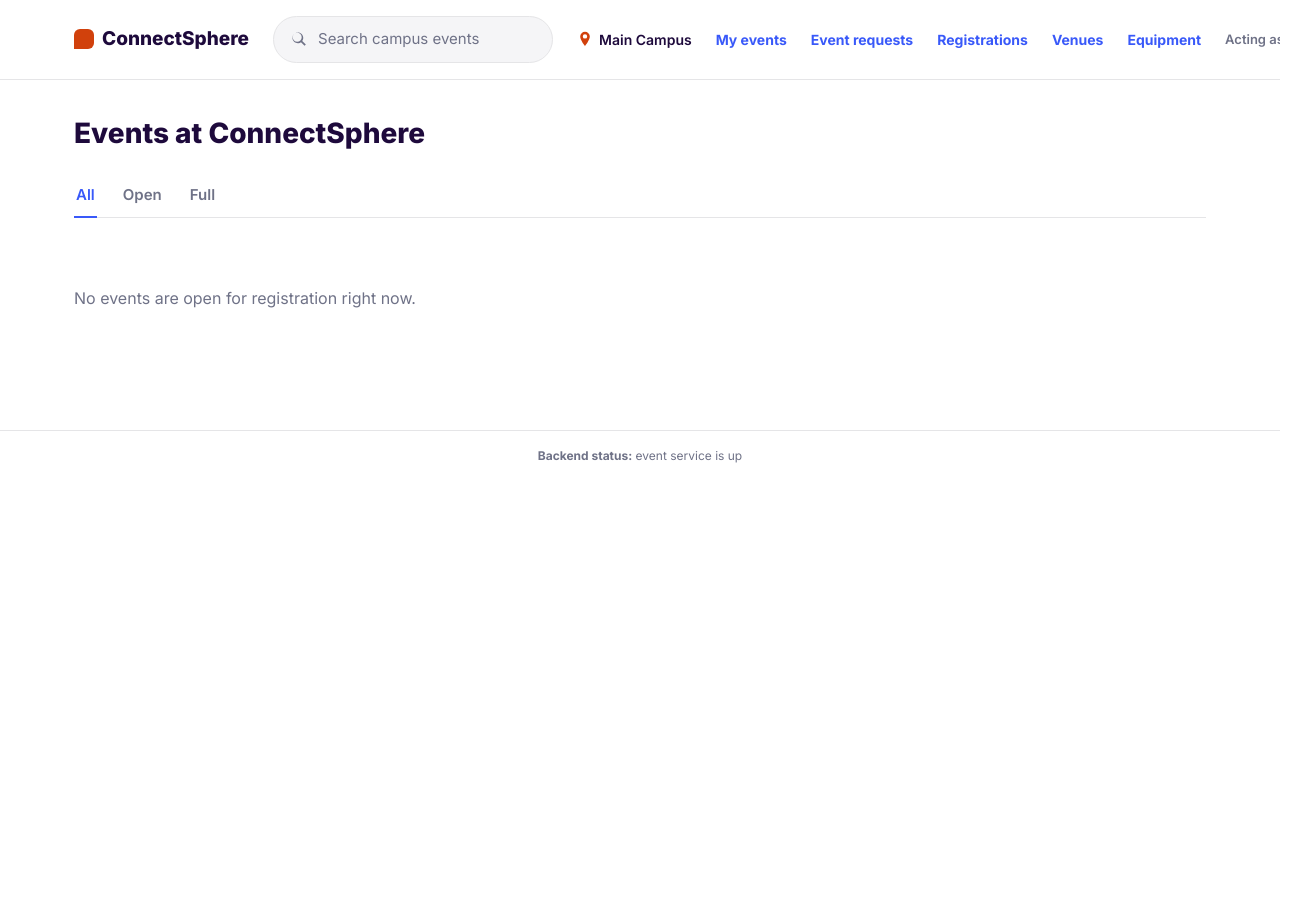
Test case: venue search (US2) › shows each result's capacity, facilities and accessibility, in the API's order (AC 3)
Click the button "Venues" at (1078, 39), box [1052,29,1104,50]
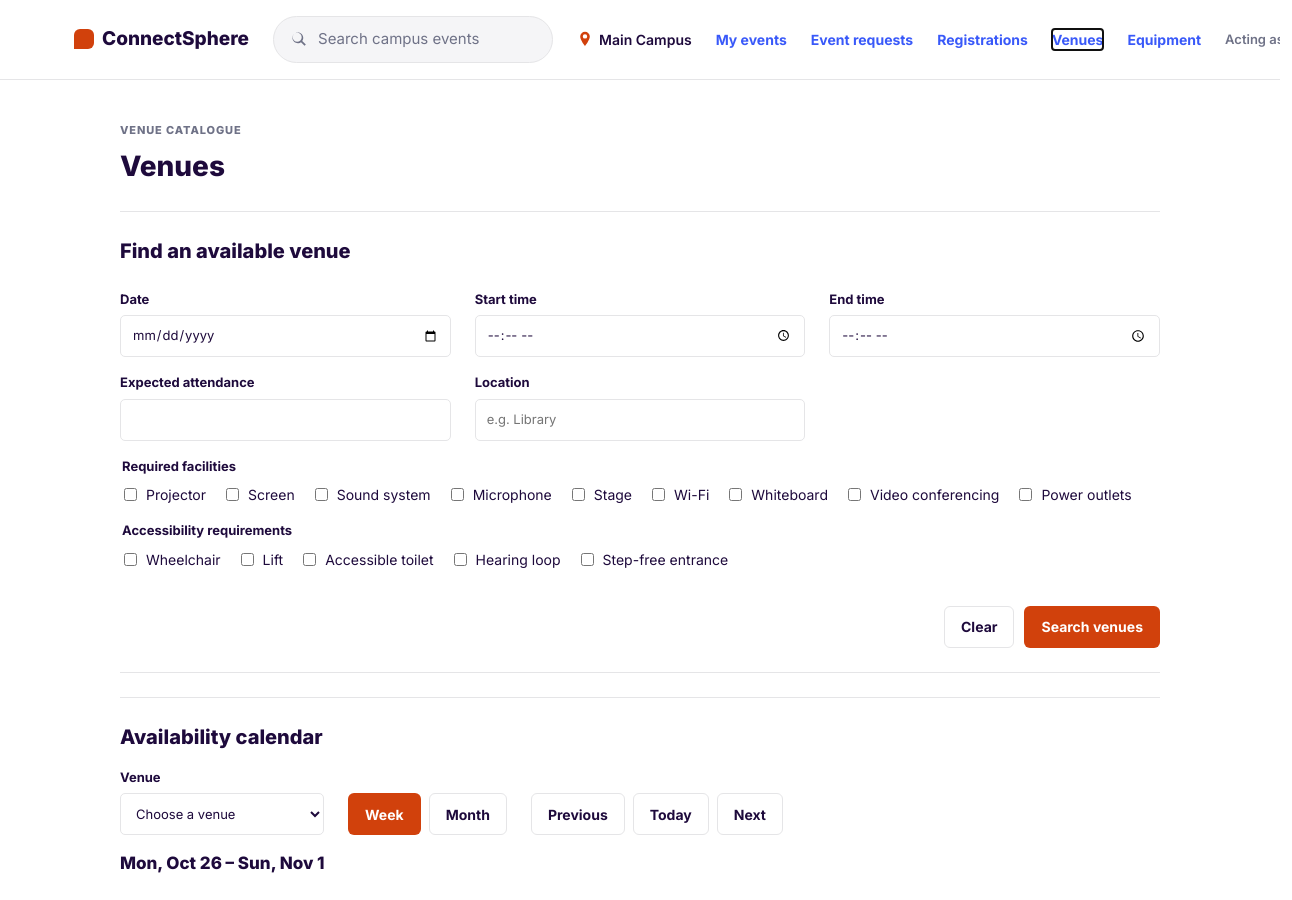
Type "2026-10-10" into the date field labelled "Date" at (285, 336), box [120,315,451,357]
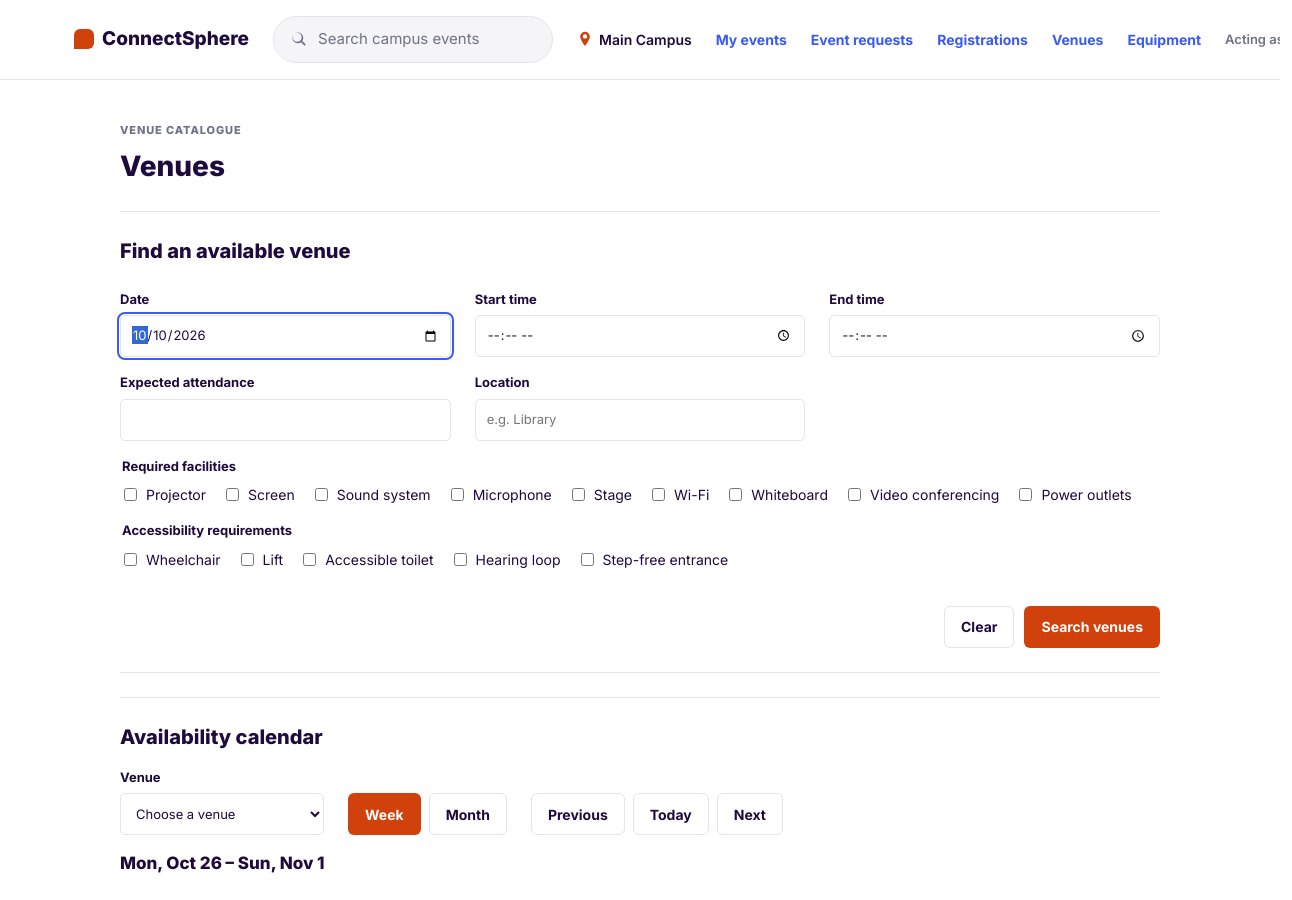
Type "10:00" into the time field labelled "Start time" at (640, 336), box [475,315,805,357]
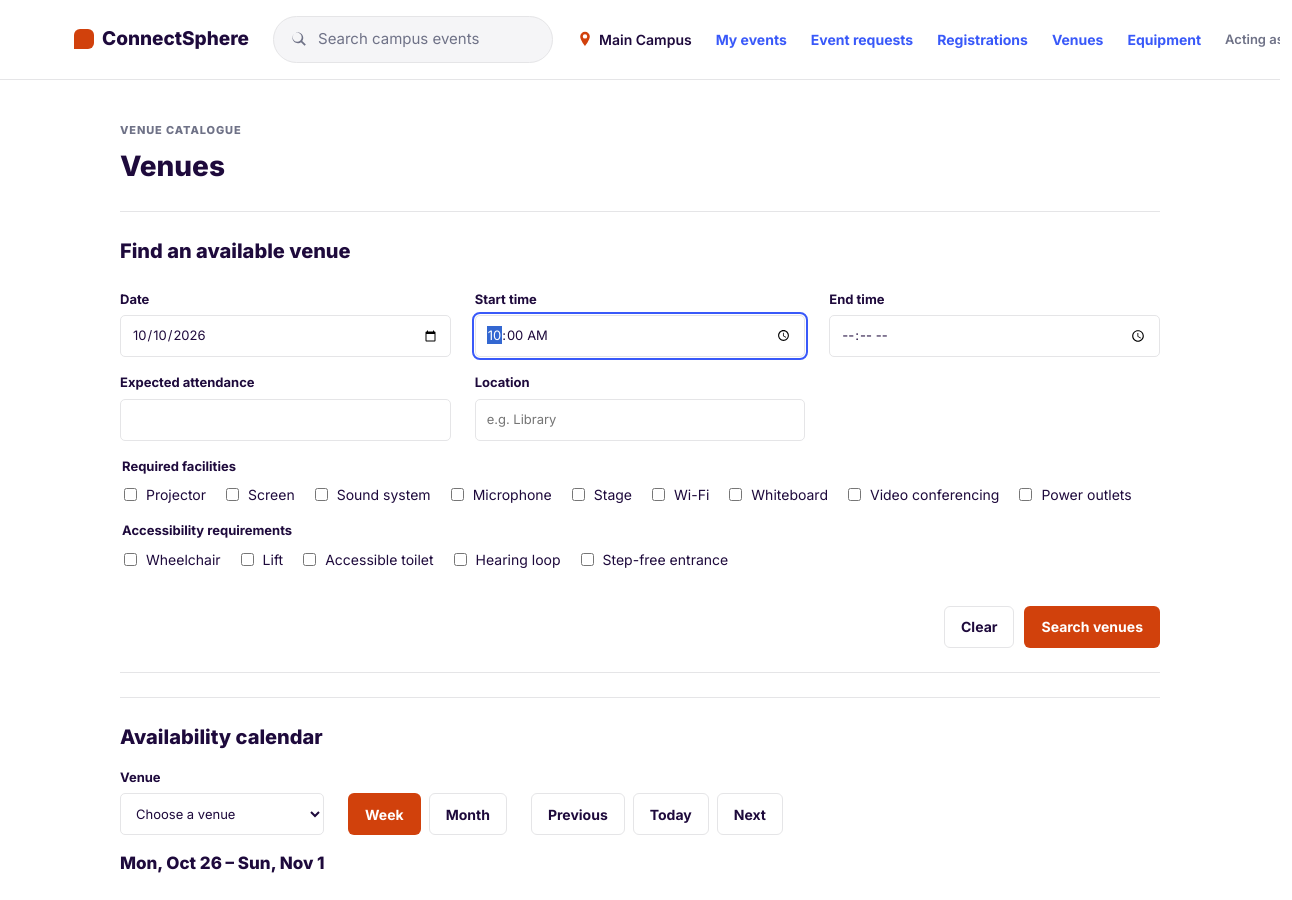
Type "12:00" into the time field labelled "End time" at (995, 336), box [829,315,1160,357]
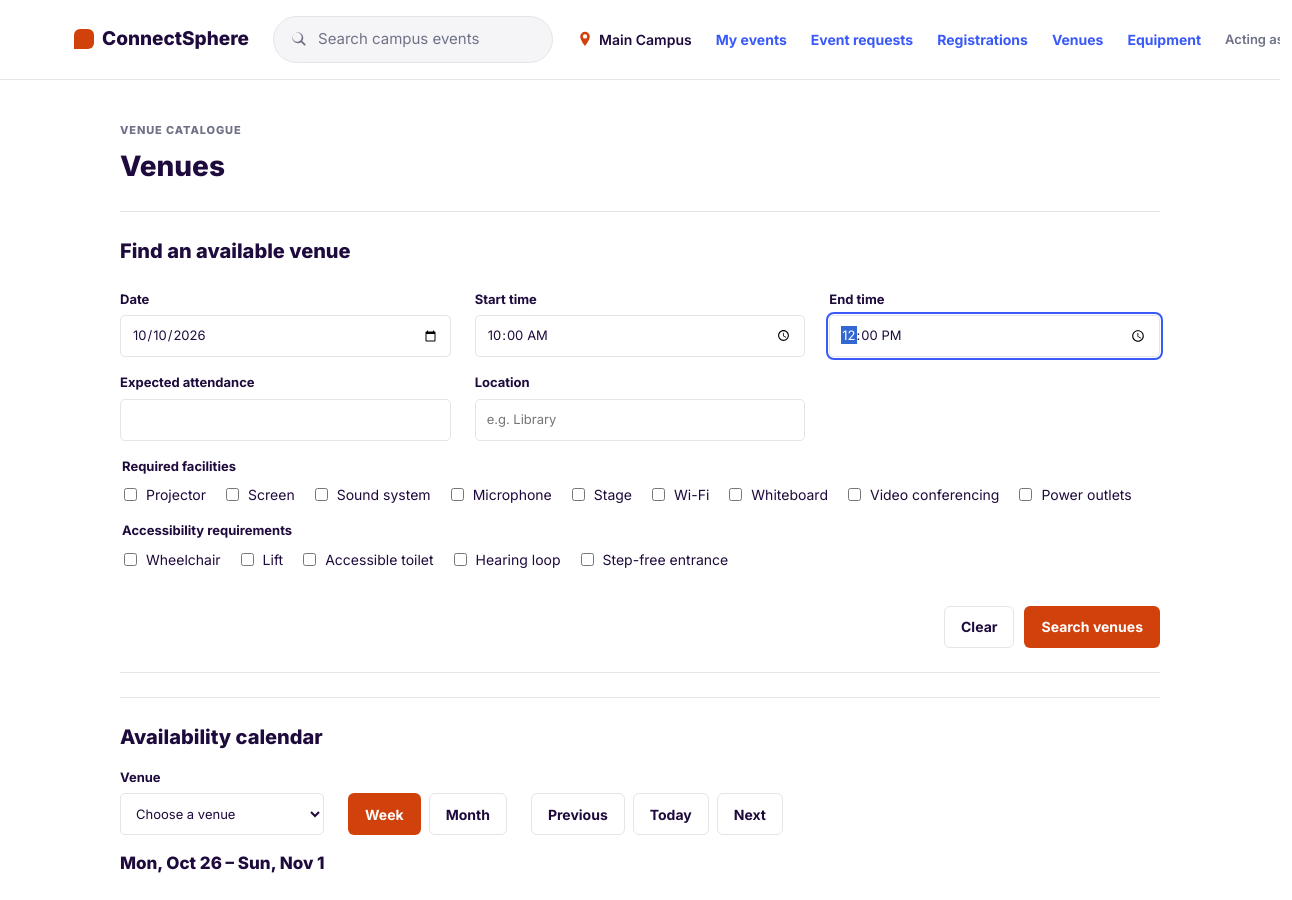
Type "30" into the number field labelled "Expected attendance" at (285, 420), box [120,398,451,440]
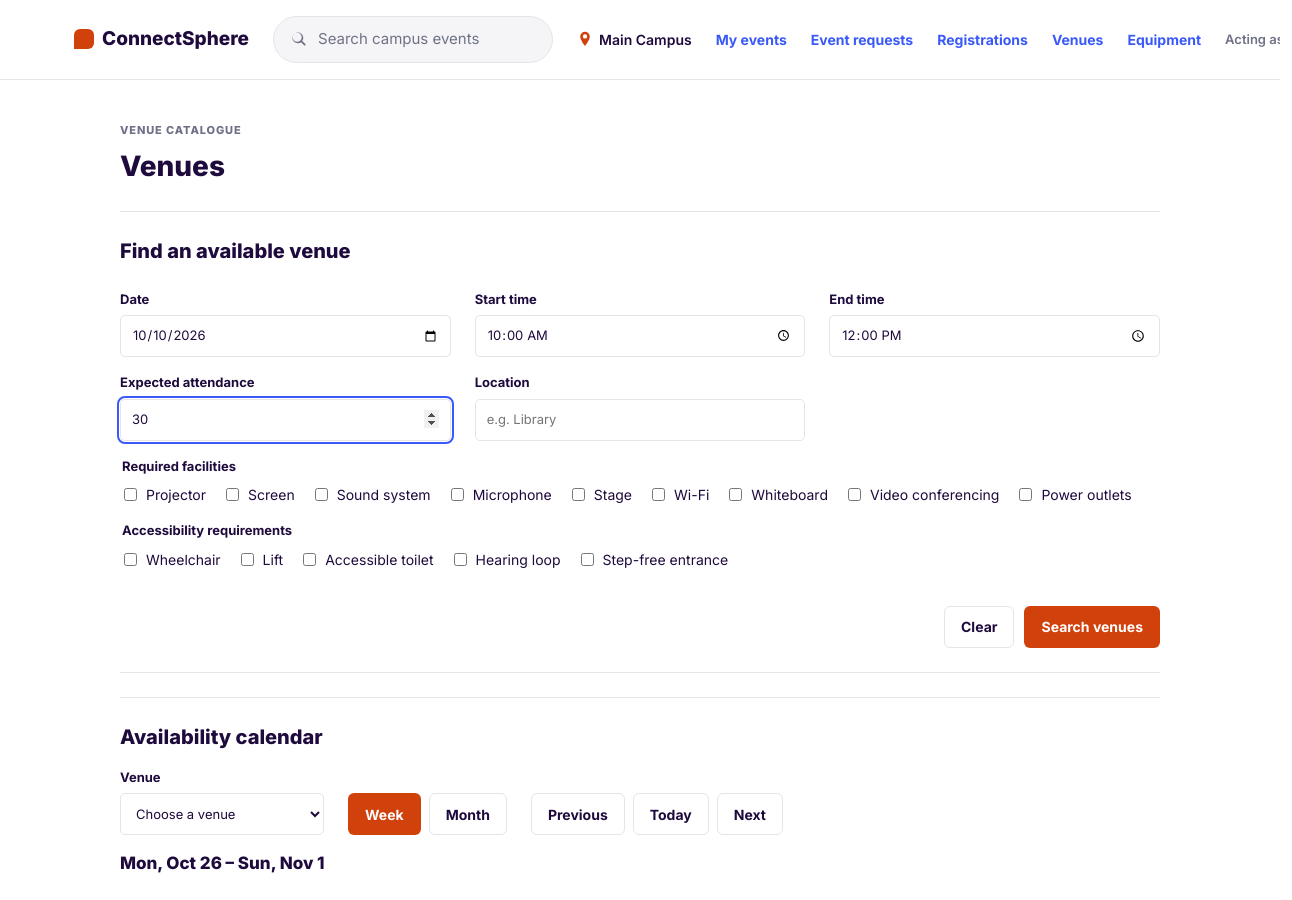
Click the button "Search venues" at (1092, 626), box [1024,606,1160,648]
(page scrolled)
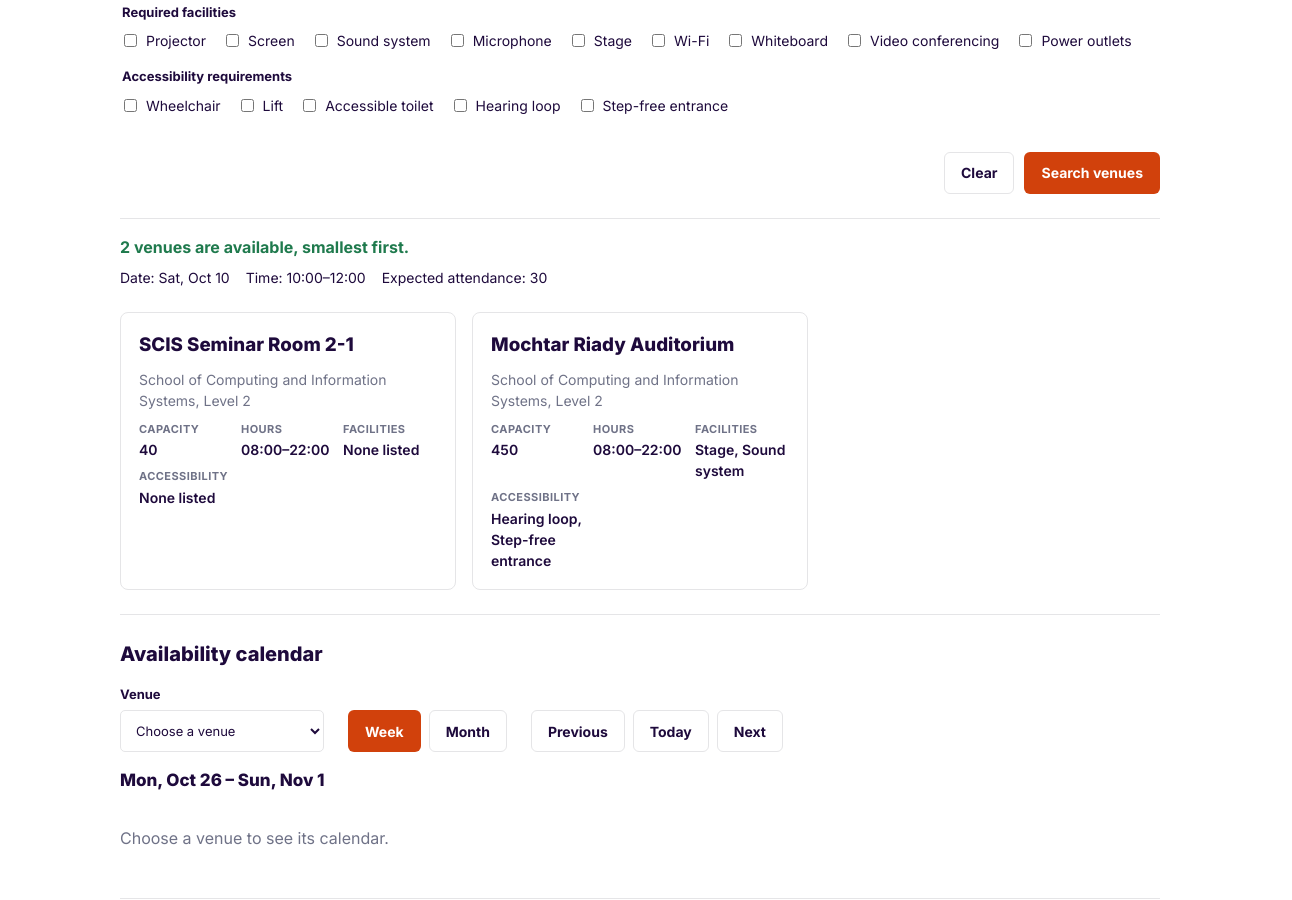
Now the text "2 venues are available, smallest first." is shown, box [120,236,409,256]
Now the list item "Mochtar Riady Auditorium" shows "450", box [491,441,518,458]
Now the list item "Mochtar Riady Auditorium" shows "Stage, Sound system", box [695,441,785,479]
